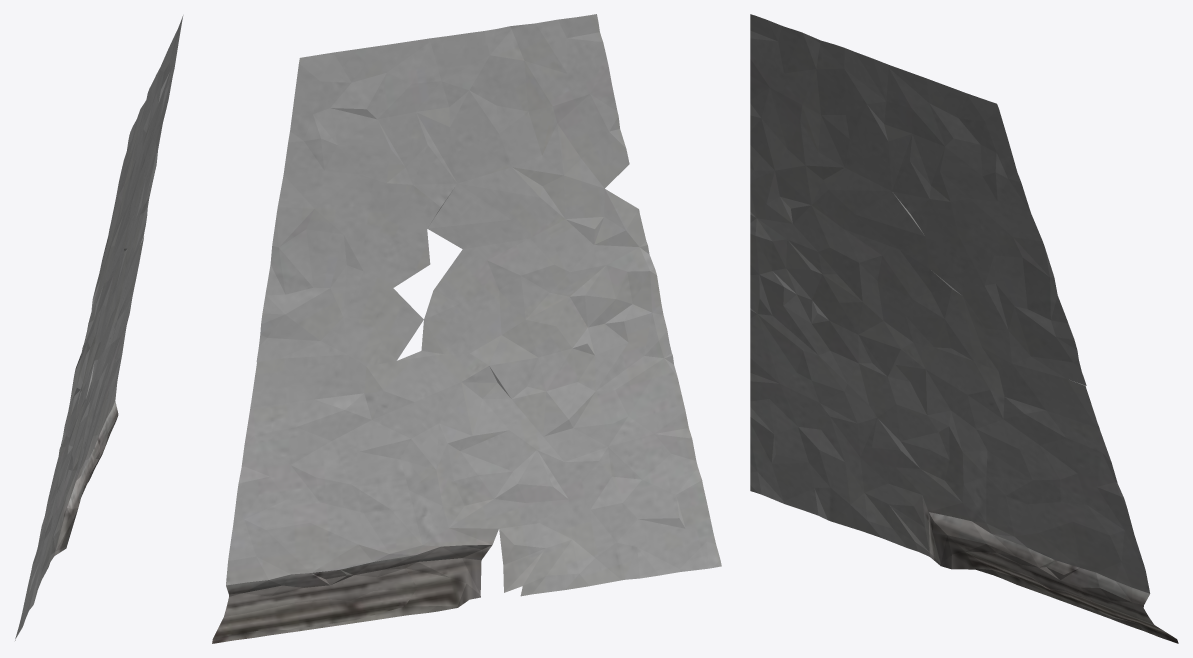
3 renders of one model, left to right at view 1: azimuth 30°, elevation 25°; view 2: azimuth 150°, elevation 25°; view 3: azimuth 270°, elevation 25°, orthographic. The views are drawn at different scales.
Size of the model in its own units: 0.5084 by 0.8374 by 0.602.
2 materials, 2 textured.
